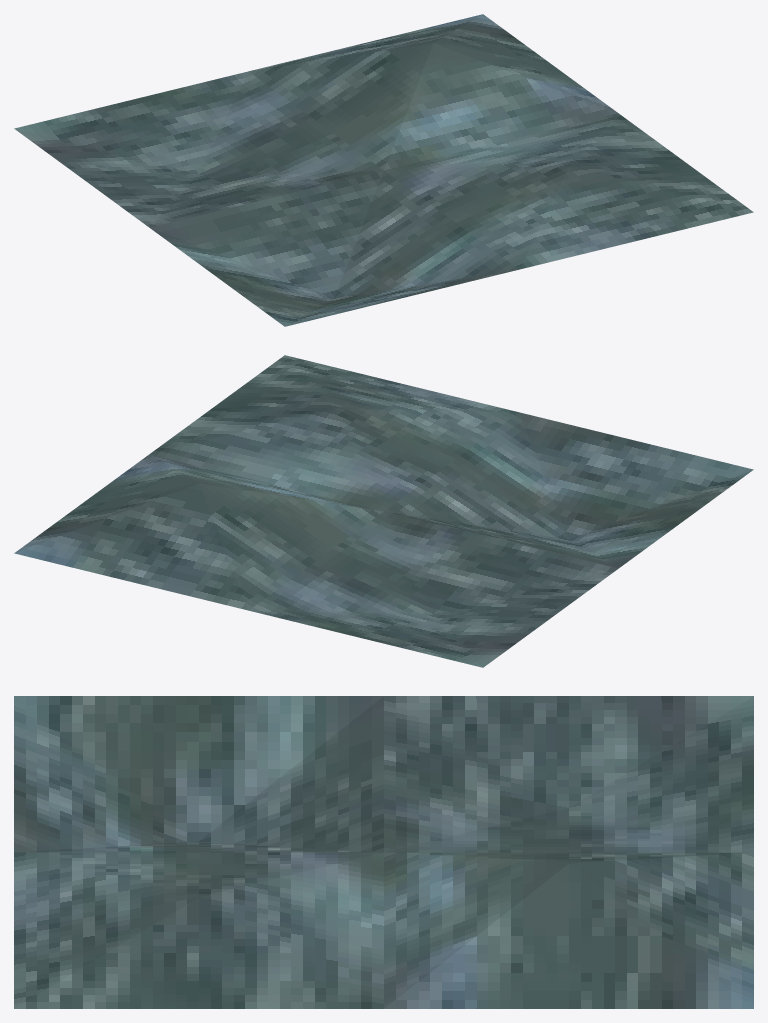
File: kenney-retro-fantasy-water.glb
3 views of the same model, one above another, from view 1: azimuth 30°, elevation 25°; view 2: azimuth 150°, elevation 25°; view 3: azimuth 270°, elevation 25° (orthographic). The views are drawn at different scales.
Visible parts, largest first — view 1: water; view 2: water; view 3: water.
Part boxes in pixels (x1,y1,x2,y2): water: (14, 14, 753, 326); water: (14, 355, 753, 667); water: (14, 696, 753, 1008).
Bounding box in the file's own units: 1 × 0.2 × 1.
Materials: 1 (1 with a texture image).
